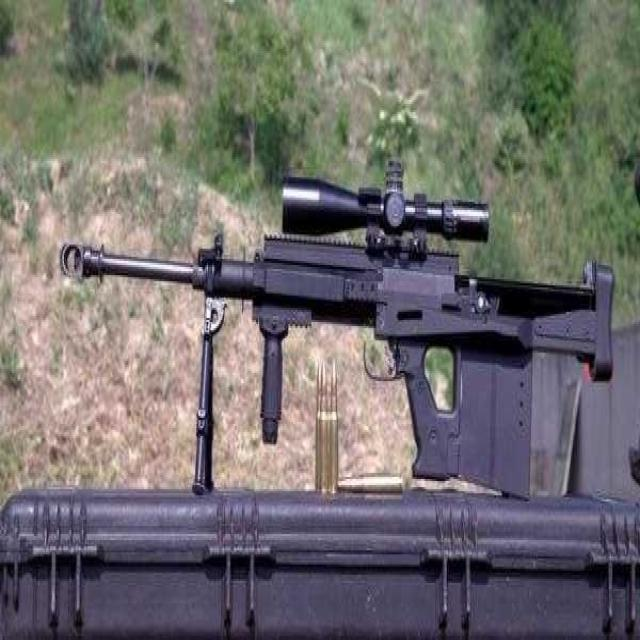heavyweapon: (45, 89, 635, 527)
